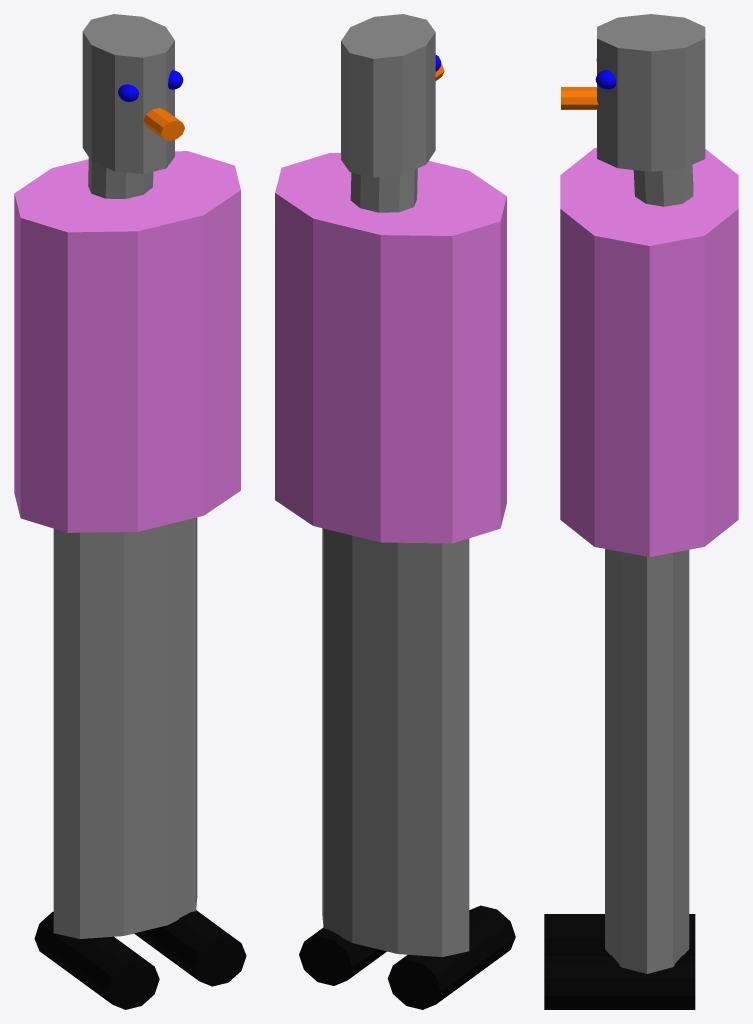
The model's file is magentaHuman 1.fbx.
The picture shows the model from 3 angles, left to right: view 1: azimuth 30°, elevation 25°; view 2: azimuth 150°, elevation 25°; view 3: azimuth 270°, elevation 25°; orthographic projection. The views are drawn at different scales.
Visible parts, largest first — view 1: Mesh05, Mesh04, Mesh03, Mesh02, Mesh01; view 2: Mesh05, Mesh04, Mesh03; view 3: Mesh05, Mesh04, Mesh03, Mesh02.
Boxes of the visible parts, bbox=[...] form: Mesh05: bbox=[14, 151, 240, 532]; Mesh04: bbox=[53, 14, 197, 938]; Mesh03: bbox=[34, 910, 246, 1009]; Mesh02: bbox=[143, 108, 184, 140]; Mesh01: bbox=[118, 70, 183, 102]; Mesh05: bbox=[275, 153, 506, 543]; Mesh04: bbox=[322, 14, 469, 957]; Mesh03: bbox=[299, 905, 515, 1009]; Mesh05: bbox=[560, 147, 738, 556]; Mesh04: bbox=[597, 14, 705, 973]; Mesh03: bbox=[544, 914, 695, 1009]; Mesh02: bbox=[561, 87, 598, 109].
Bounding box in the file's own units: 70.03 × 288 × 53.18.
